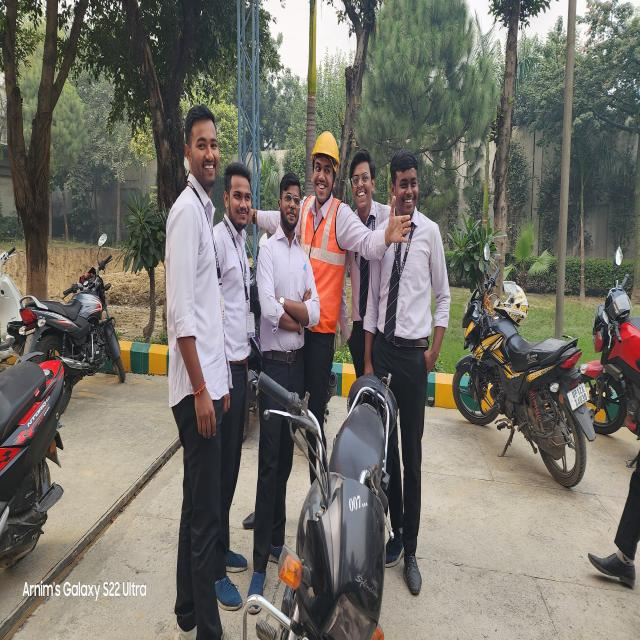safe: (304, 127, 352, 469)
unsafe: (164, 97, 225, 640), (381, 156, 435, 594), (260, 167, 320, 527), (222, 163, 256, 603), (348, 146, 379, 374)
